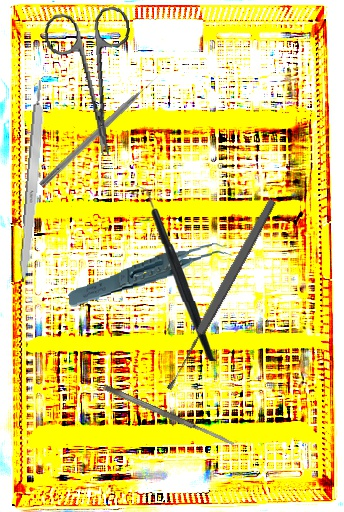Chopper: (131, 183, 217, 363)
Iris Scissors: (42, 5, 145, 162)
Pusher: (38, 73, 162, 190)
Scalpel Handle: (17, 79, 50, 283)
Spatula Surgical: (102, 383, 237, 449)
Surgical Spoon: (162, 197, 279, 392)
Tissue Forceps: (65, 241, 235, 309)
